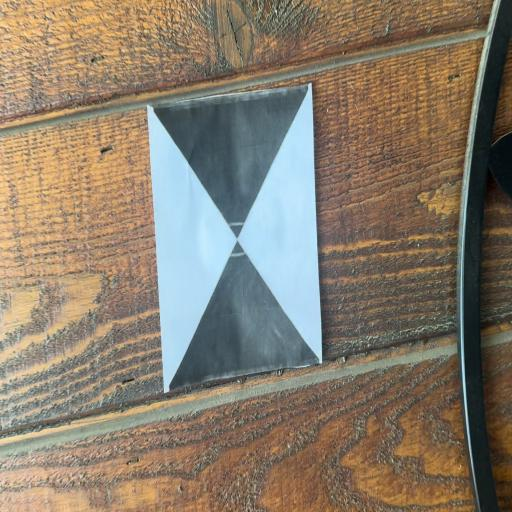target: (148, 83, 322, 391)
